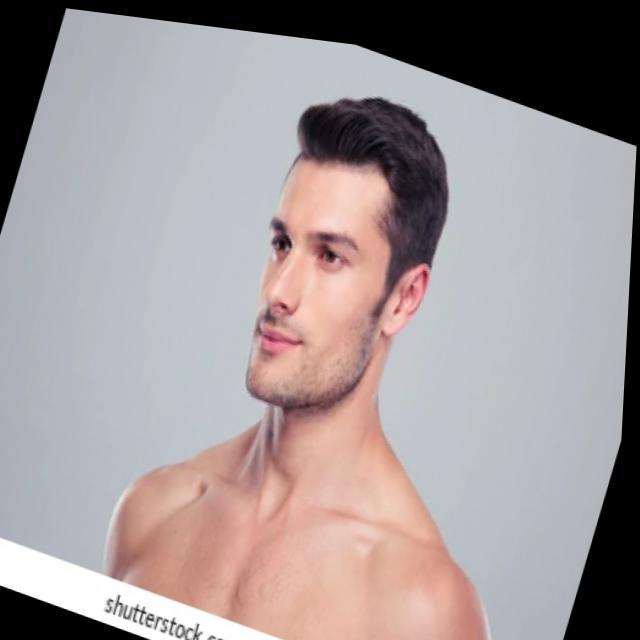Nonhelmet: (238, 92, 453, 413)
